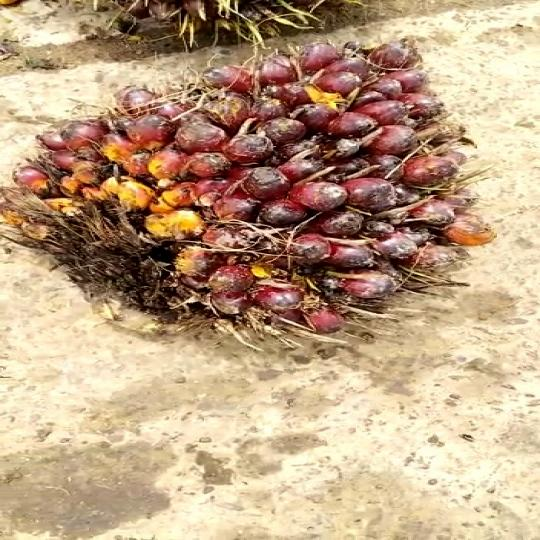kurang masak: (0, 22, 540, 330)
